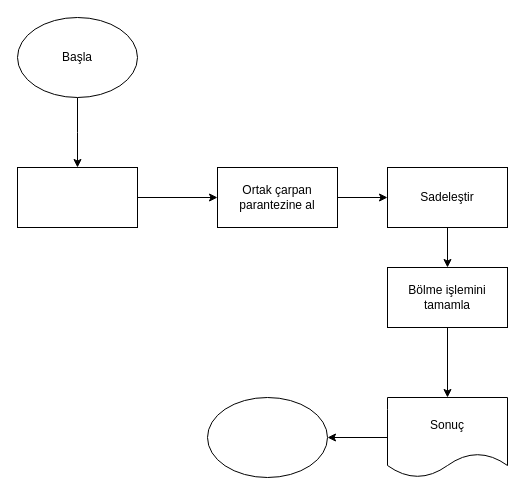
Some shapes in this 525 by 495 pixel diagram are drawn without their labels. The shapes that lost their labels are listed below. From the top down, each one's centre as x and y in pixels, then its label:
At pixel 77 197: "Bölme işlemi bölüneni ve böleni gir".
At pixel 267 437: "Dur".
